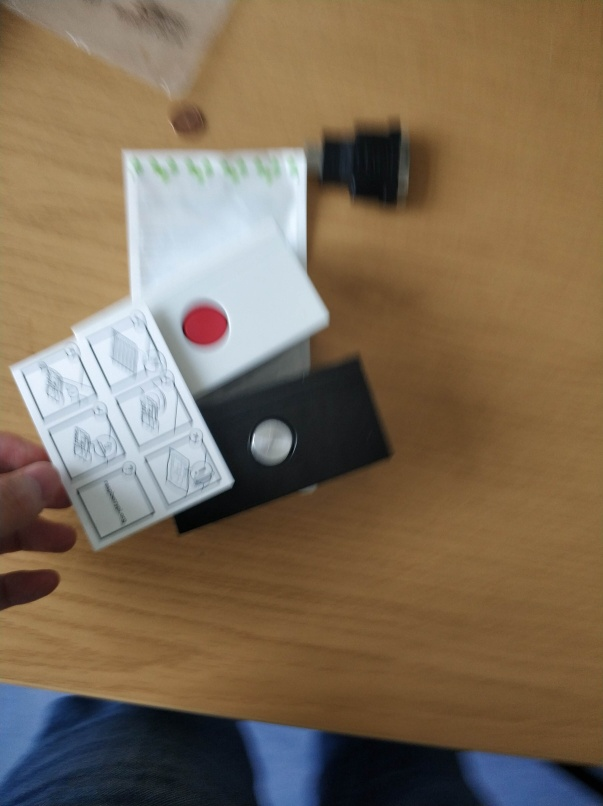black+black+silver: (143, 349, 399, 541)
white+white+red: (66, 215, 332, 397)
